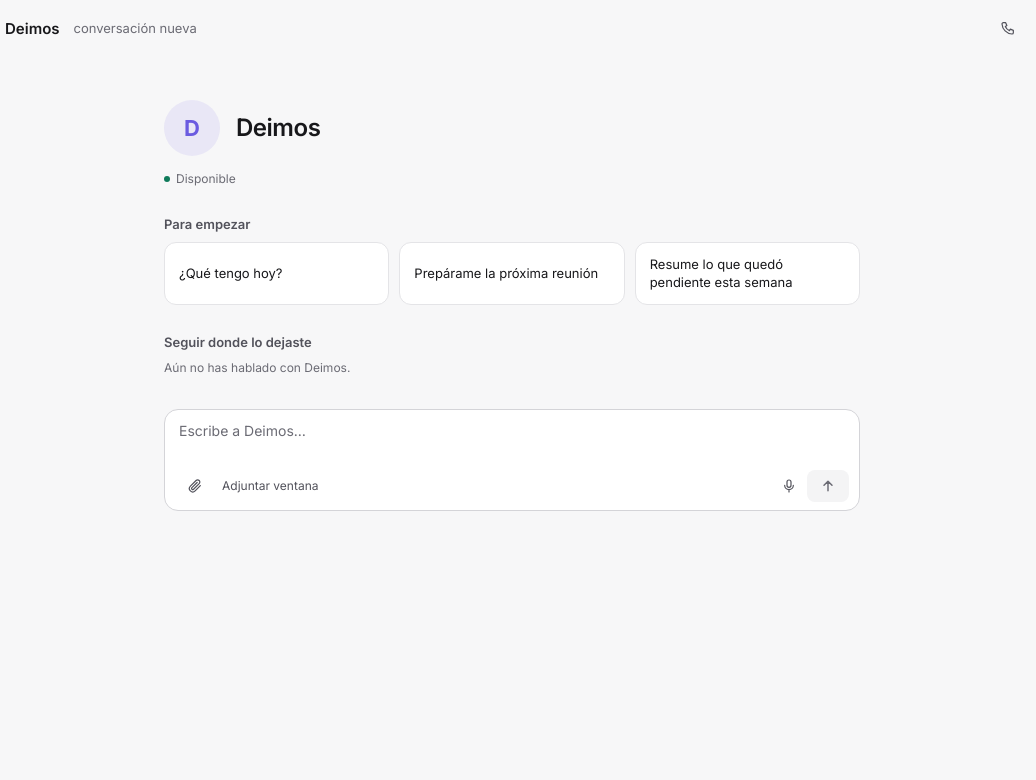
Test case: attaching from the dialog › shows a chip per chosen file and sends them with the text
The width and height of the screenshot is (1036, 780).
Click the button named "Adjuntar".
click(195, 486)  # box [179, 470, 211, 502]
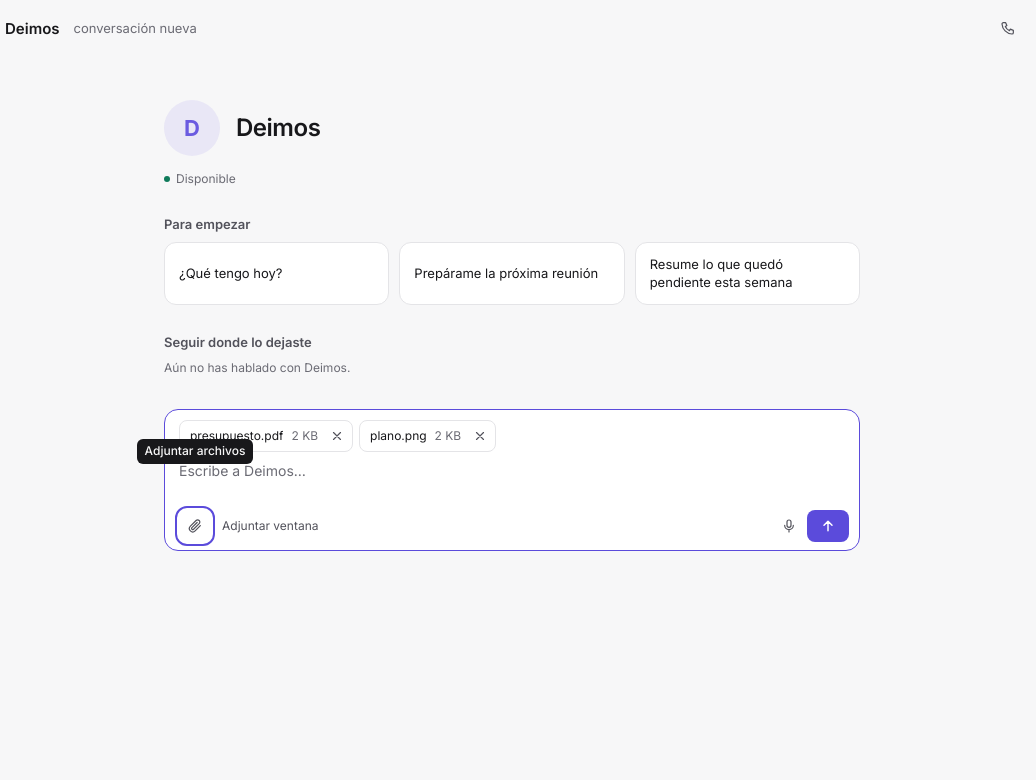
Expected: the list item "presupuesto.pdf" shows "2 KB", [292, 428, 318, 443]
Type "Míralos" into the text box named "Mensaje para Deimos".
click(514, 481); type("Míralos")  # box [179, 460, 849, 502]
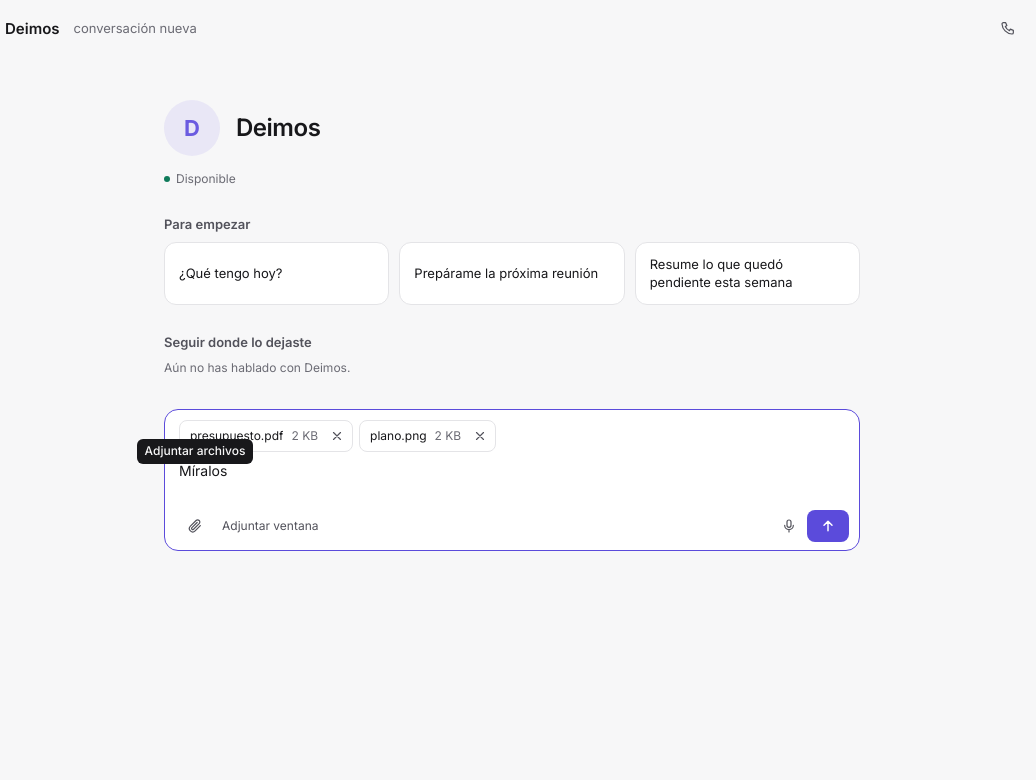
Click the button named "Enviar".
click(828, 526)  # box [807, 510, 849, 542]
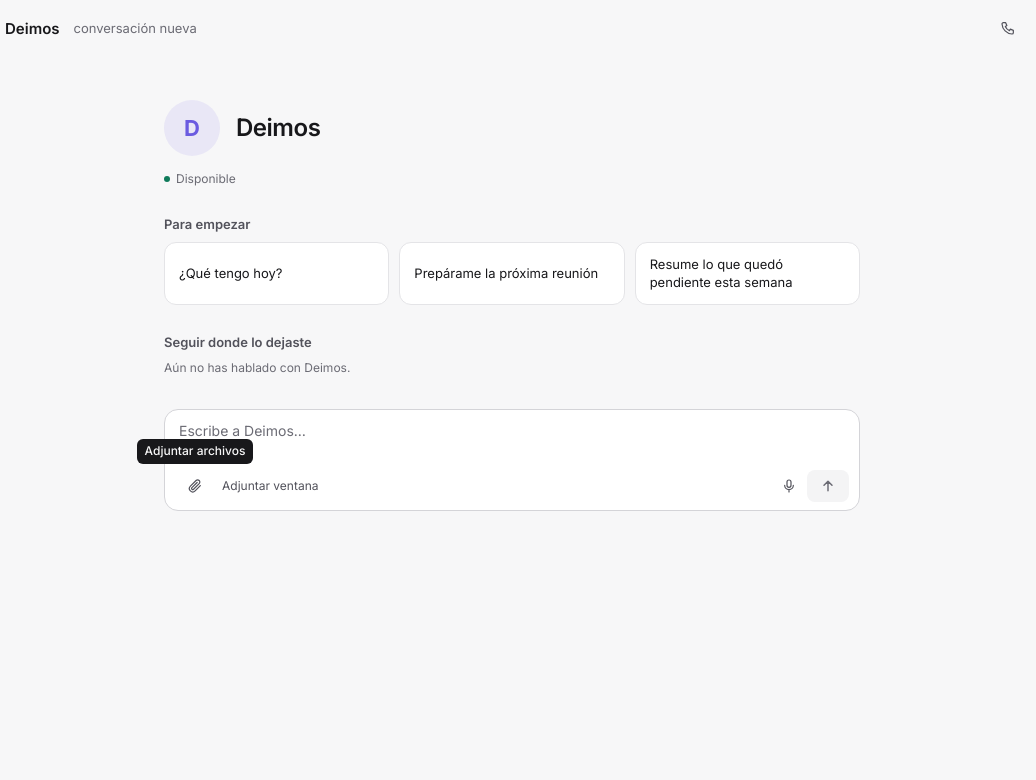
Expected: the text "plano.png" is gone
